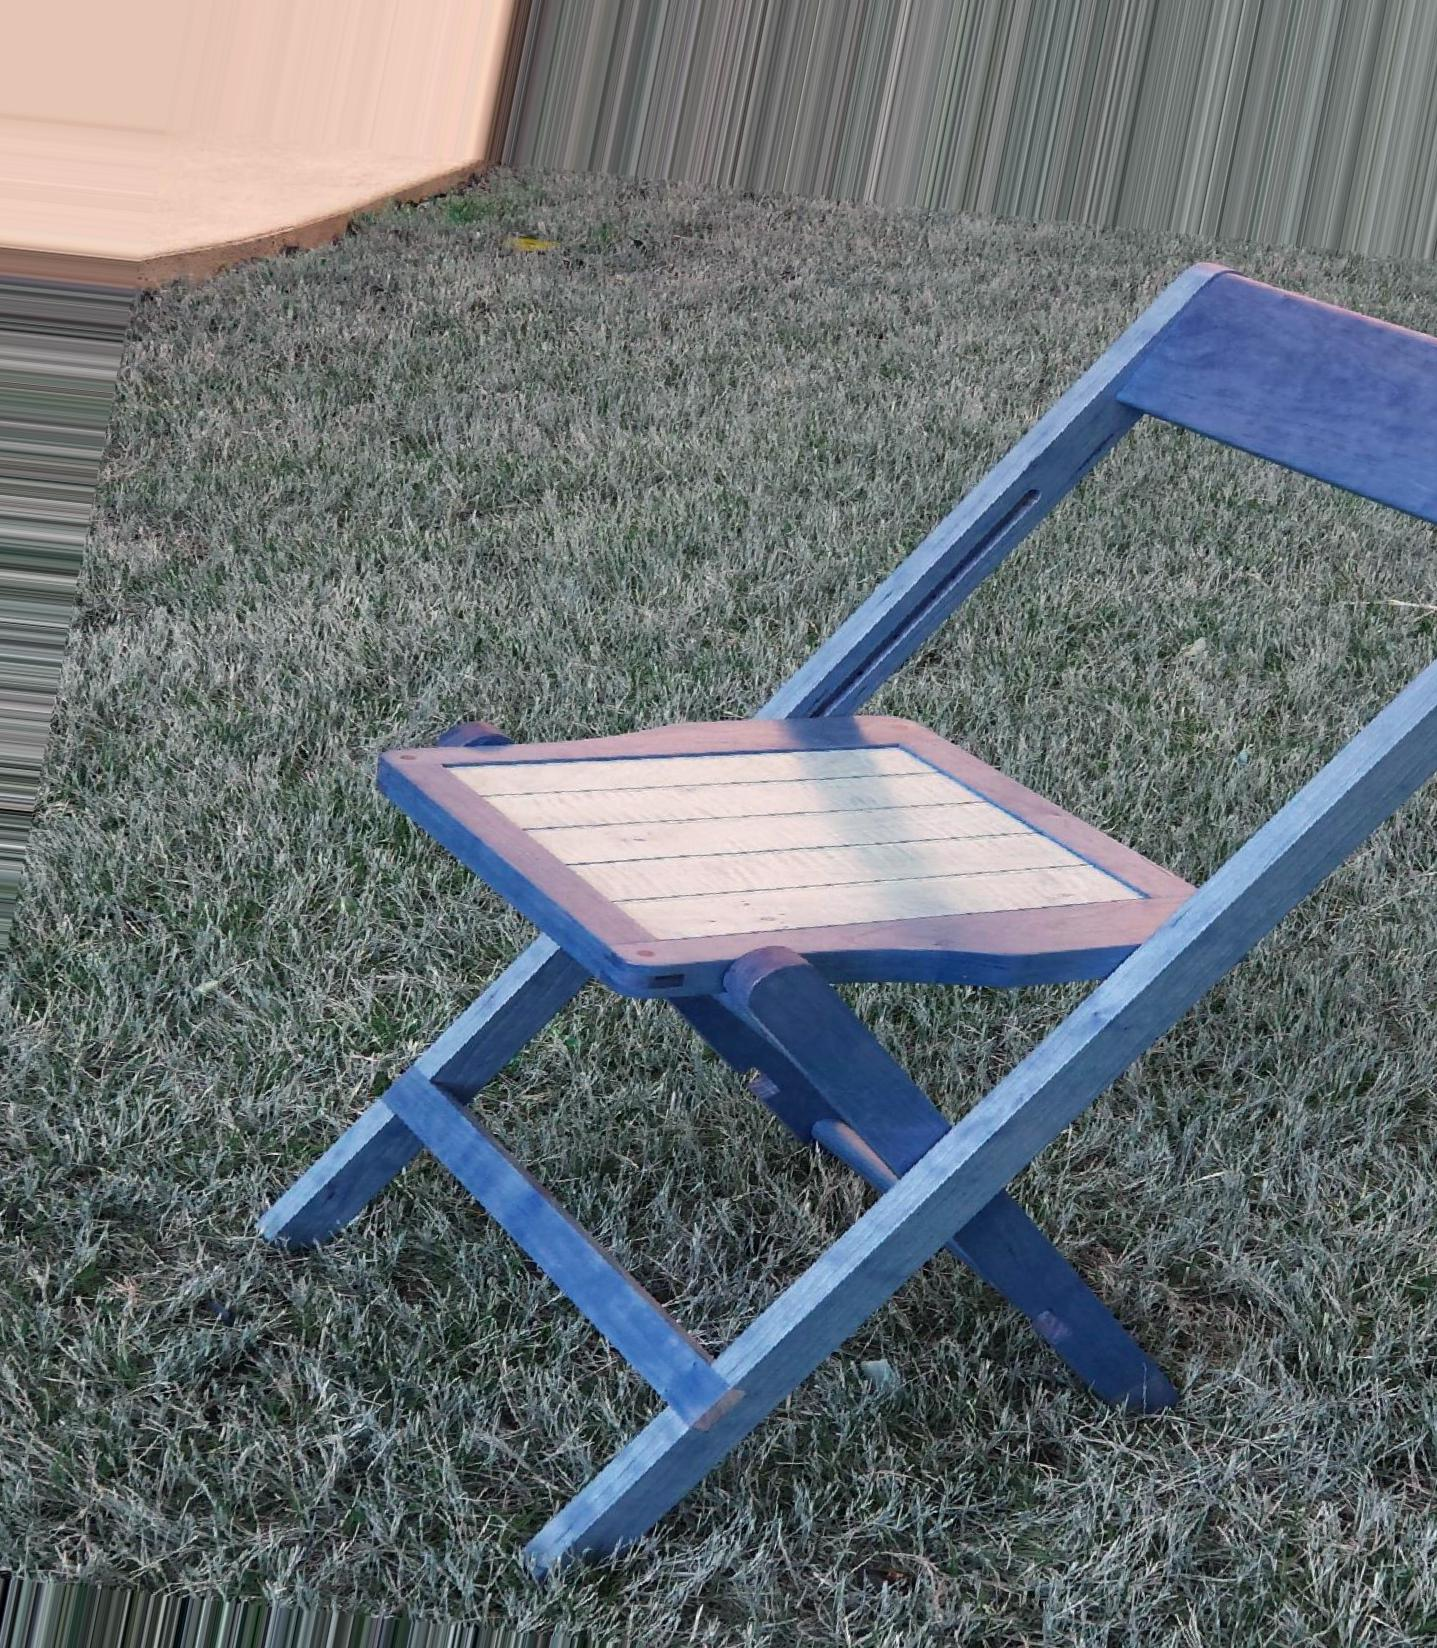chair: (243, 255, 1436, 1586)
